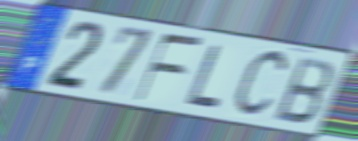2: (42, 19, 103, 94)
7: (98, 23, 156, 98)
B: (272, 54, 337, 127)
C: (229, 47, 293, 122)
F: (132, 31, 207, 104)
L: (183, 42, 226, 110)
